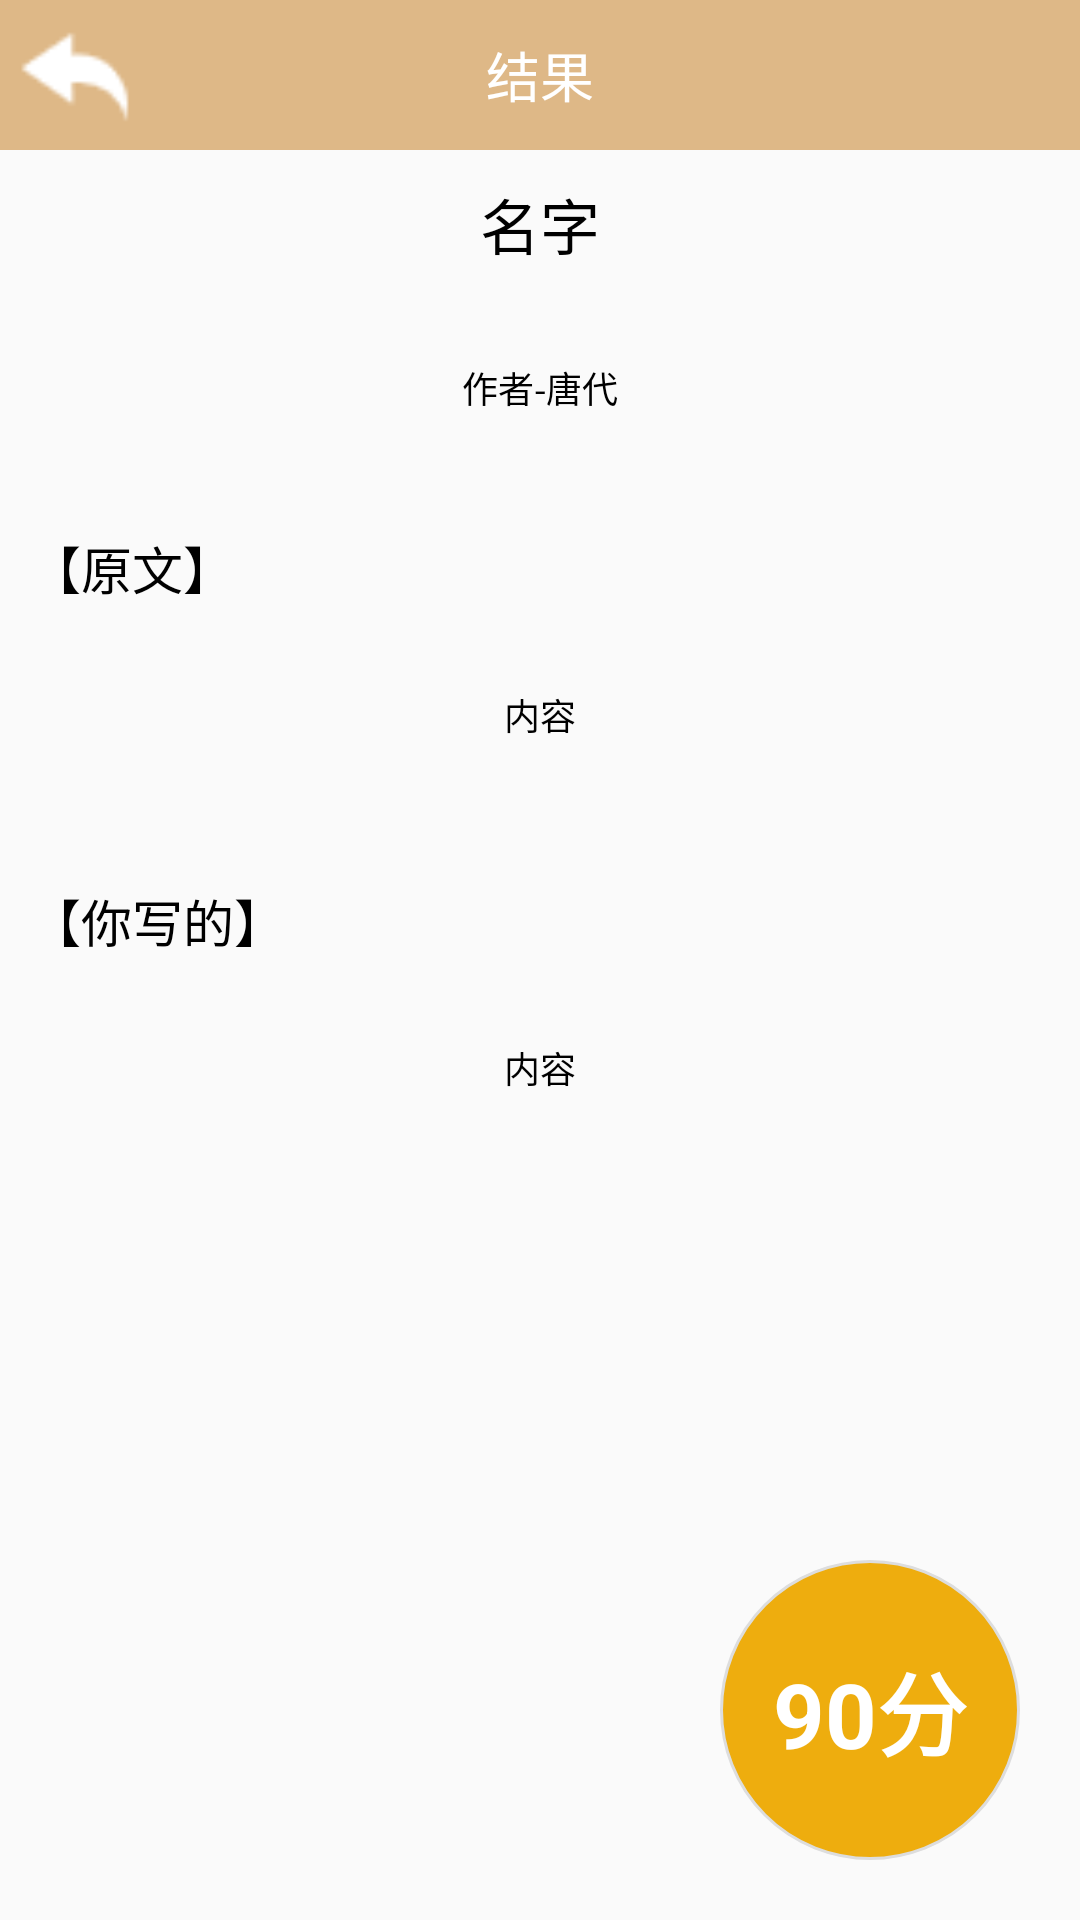

Screen size 1080px x 1920px. Icon name, then its center in pixels as (x=x, y=y):
back: (x=75, y=76)
